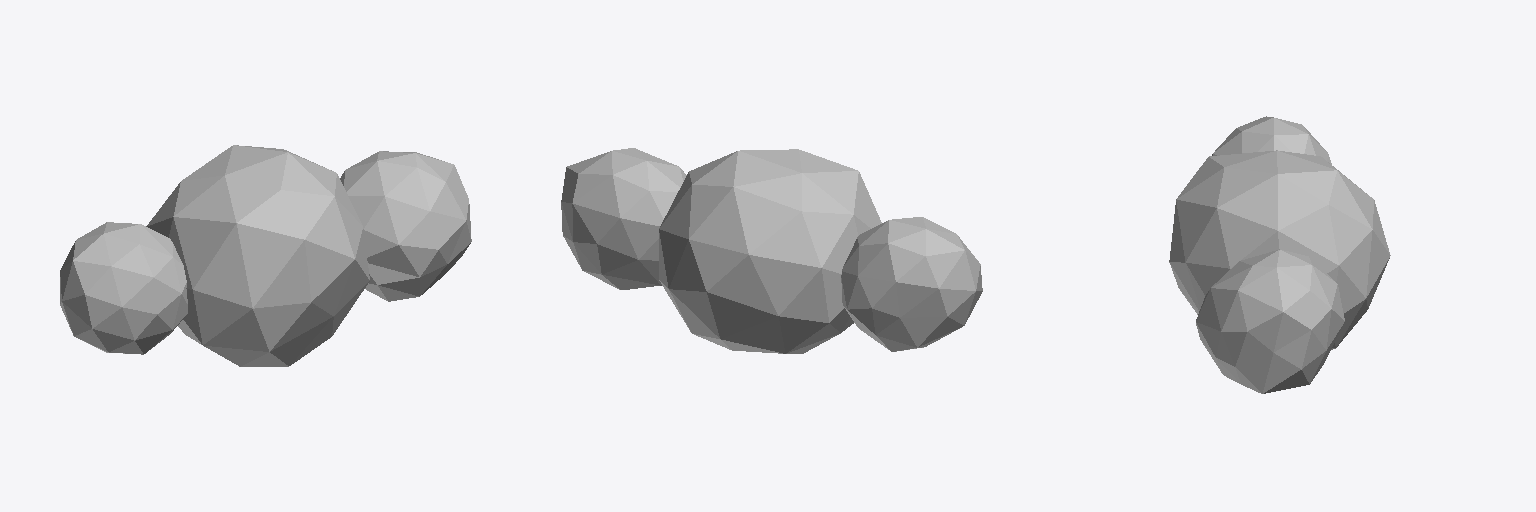
File: cloud.obj
3 views of the same model, side by side, from view 1: azimuth 30°, elevation 25°; view 2: azimuth 150°, elevation 25°; view 3: azimuth 270°, elevation 25° (orthographic).
Visible parts, largest first — view 1: Icosphere.002; view 2: Icosphere.002; view 3: Icosphere.002.
Boxes of the visible parts, x1=… form: Icosphere.002: x1=60, y1=145, x2=471, y2=366; Icosphere.002: x1=561, y1=148, x2=982, y2=353; Icosphere.002: x1=1169, y1=116, x2=1390, y2=393.
Bounding box in the file's own units: 3.98 × 1.84 × 1.9.